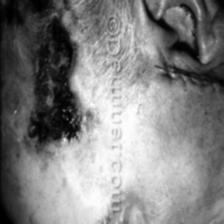Unclassified: (0, 0, 79, 179)
